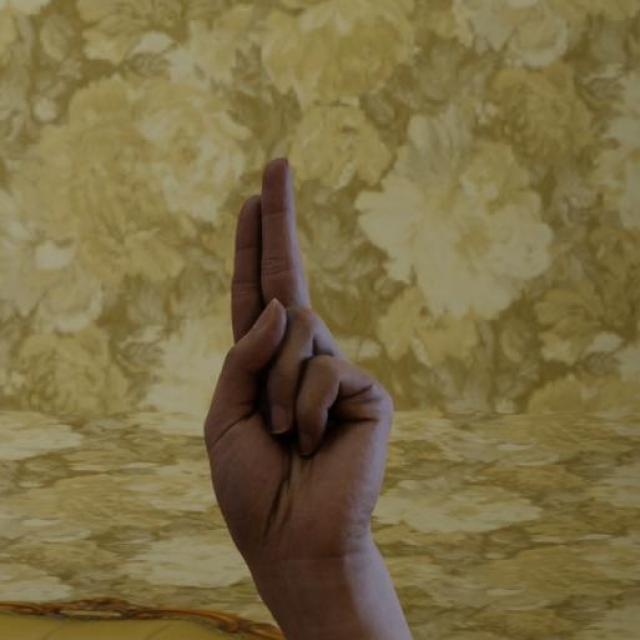U: (197, 153, 397, 578)
